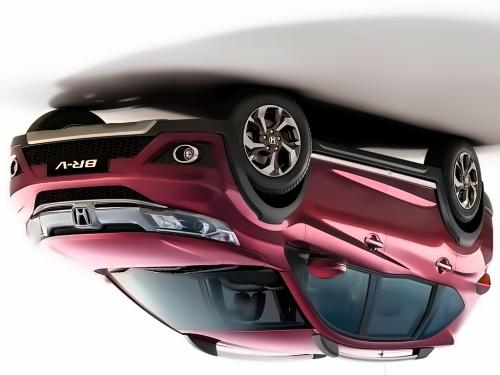Car hood: (37, 230, 265, 275)
Driver-s door - -F-R-: (286, 126, 396, 362)
Fender - -F-R-: (221, 130, 312, 271)
Fender - -R-R-: (429, 161, 490, 318)
Front bumper: (4, 115, 242, 228)
Headlight - -L-: (23, 213, 46, 246)
Headlight - -R-: (145, 205, 239, 244)
Passenger-s door - -R-R-: (351, 143, 456, 353)
Rear bumper: (477, 179, 494, 236)
Rear light - -L-: (474, 271, 493, 298)
Side bumper - -R-: (301, 134, 446, 210)
Side mirror - -R-: (290, 245, 348, 281)
